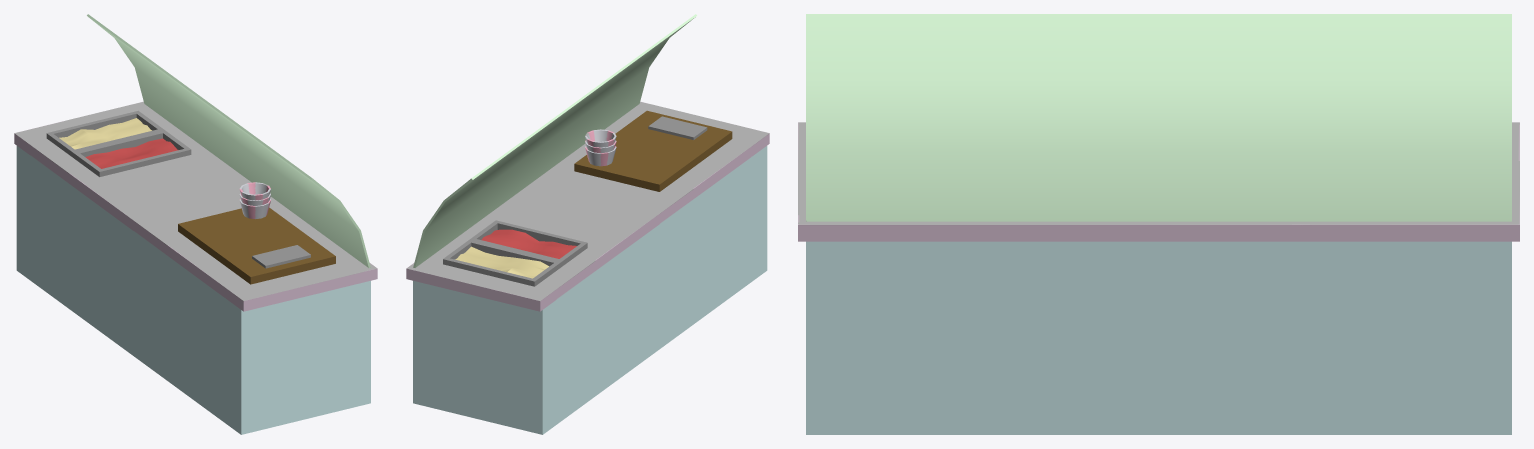
File: ice lv1.glb
3 views of the same model, side by side, from view 1: azimuth 30°, elevation 25°; view 2: azimuth 150°, elevation 25°; view 3: azimuth 270°, elevation 25° (orthographic). The views are drawn at different scales.
Visible parts, largest first — view 1: Cube; view 2: Cube; view 3: Cube.
Boxes of the visible parts, x1,y1,x2,y2 form: Cube: (14, 14, 377, 434); Cube: (406, 14, 769, 434); Cube: (798, 14, 1519, 434).
Size of the model in its own units: 0.6481 by 1.11 by 1.92.
1 material, 1 textured.
